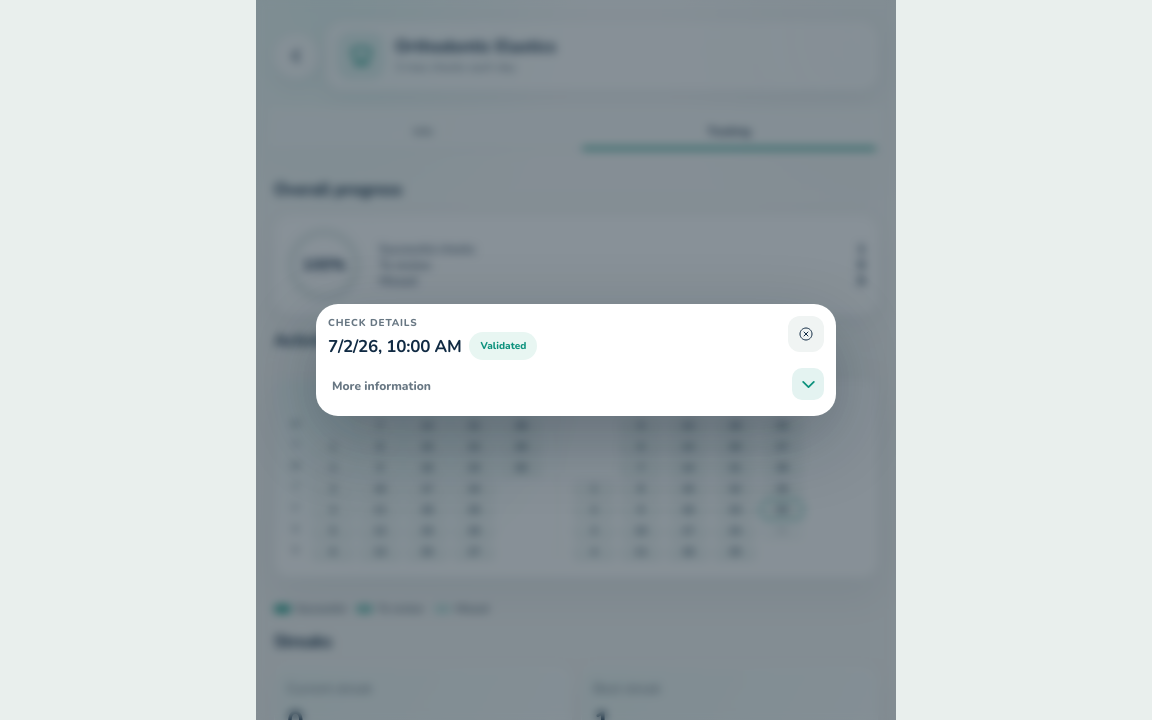
Test: participant routines navigation › opens a home history event directly in routine tracking details
The width and height of the screenshot is (1152, 720).
expect the button "Tracking" is shown: met, box x1=576 y1=113 x2=882 y2=149
Click the button named "Show all information".
click(808, 384)  # box x1=792 y1=368 x2=824 y2=400
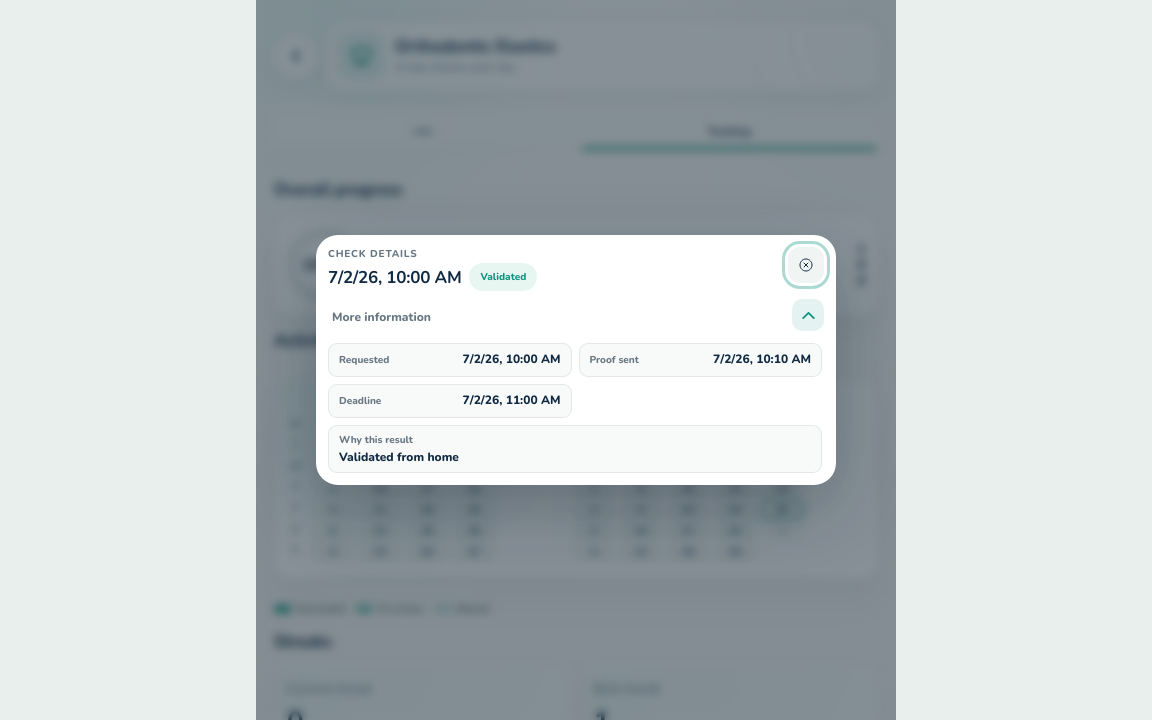
expect the dialog with class "history-detail-dialog" shows "Validated from home": met, box x1=339 y1=449 x2=459 y2=465
